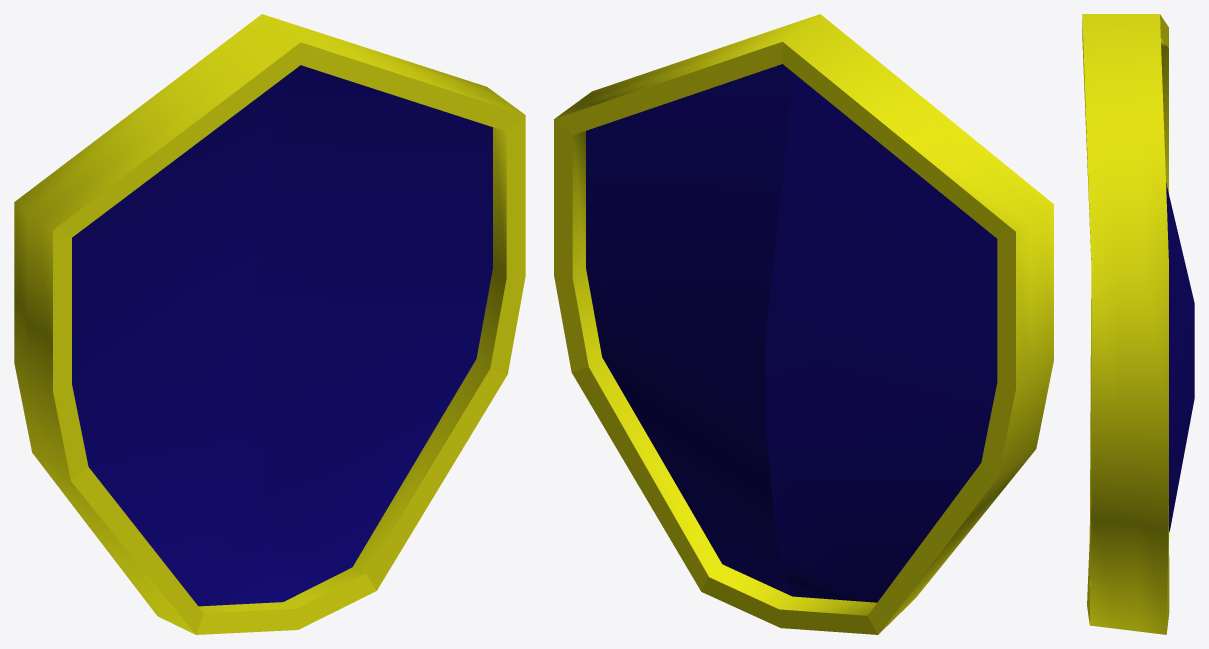
Rendered from Shield.fbx.
3 renders of one model, left to right at view 1: azimuth 30°, elevation 25°; view 2: azimuth 150°, elevation 25°; view 3: azimuth 270°, elevation 25°, orthographic. The views are drawn at different scales.
Visible parts, largest first — view 1: Invencible; view 2: Invencible; view 3: Invencible.
Boxes of the visible parts, <box> form: Invencible: <box>14,14,525,634</box>; Invencible: <box>554,14,1053,634</box>; Invencible: <box>1082,14,1194,634</box>.
Bounding box in the file's own units: 80.14 × 96.95 × 16.44.
